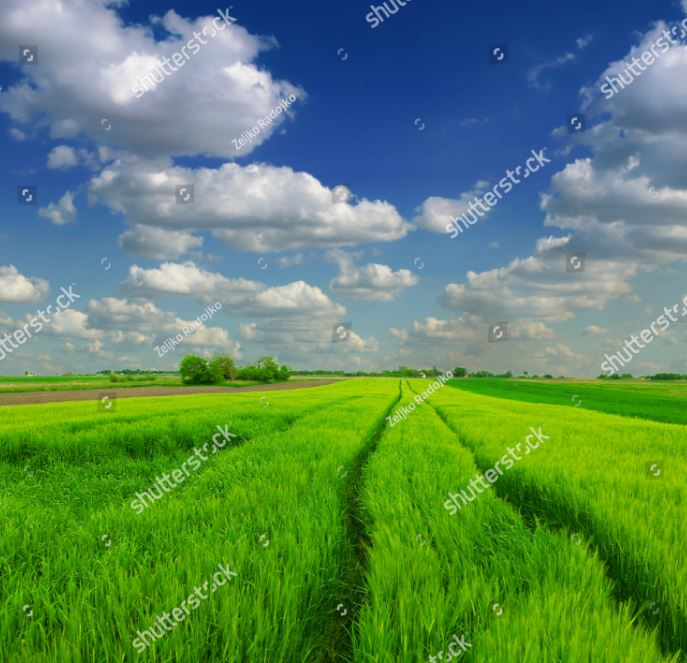Wheat: (382, 435, 668, 647), (81, 412, 287, 618)
